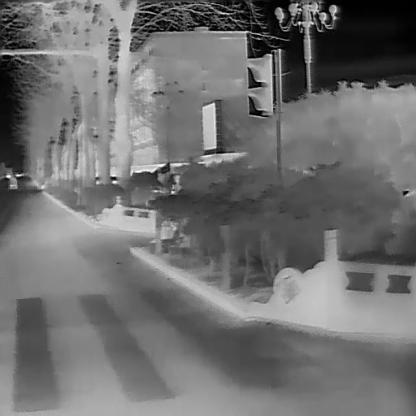car: (6, 176, 17, 189), (3, 170, 11, 178)
